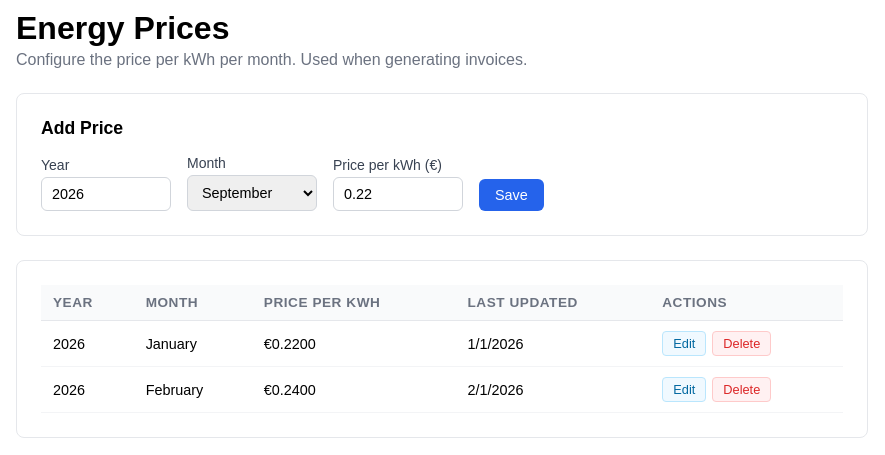
Test case: EnergyPrices.vue › populates form when clicking Edit on a row
Step 1. Click the button with class "btn-edit" in the row of "January" → (684, 344), box [662,331,706,356]
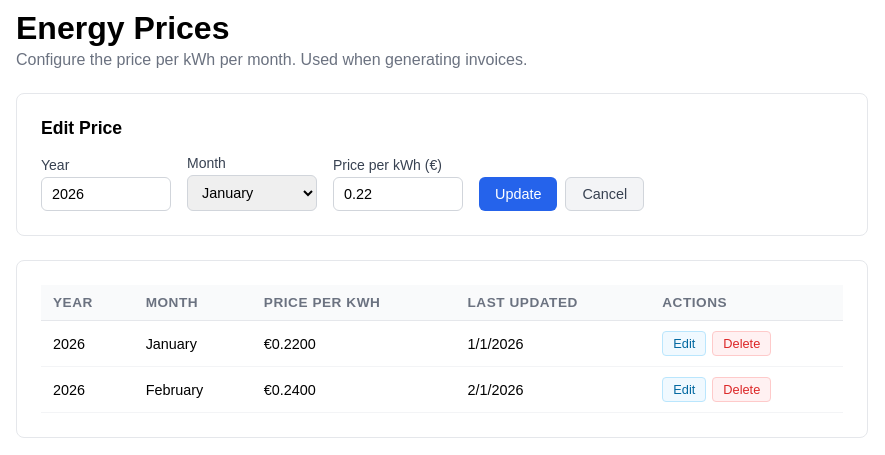
Expected: the heading "Edit Price" is shown, [41,118,122,138]
